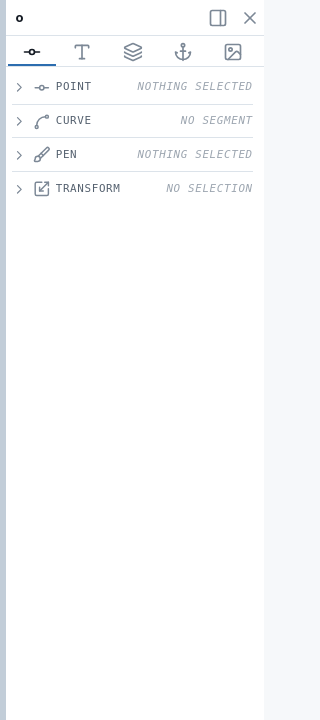
it: what the inspector says when there is nothing to say › points at the canvas rather than showing an empty list
What coordinates should you click on to do the following:
click the tab named "Anchors and guides"
I would click on:
 (183, 53)
Its box is [159,40,207,66].
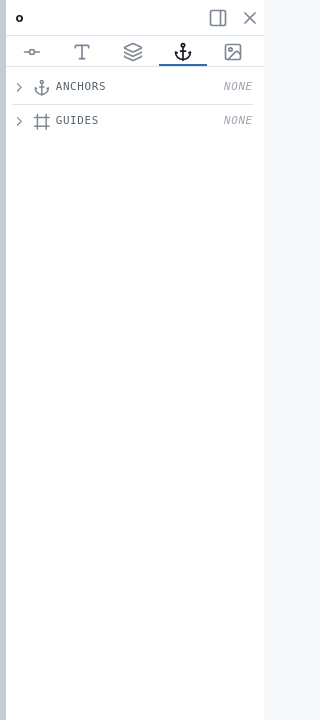
expect the button "Anchors none" is shown: met
What coordinates should you click on to do the following:
click the button "Anchors none"
I would click on:
 (132, 88)
Its box is [12,77,253,98].
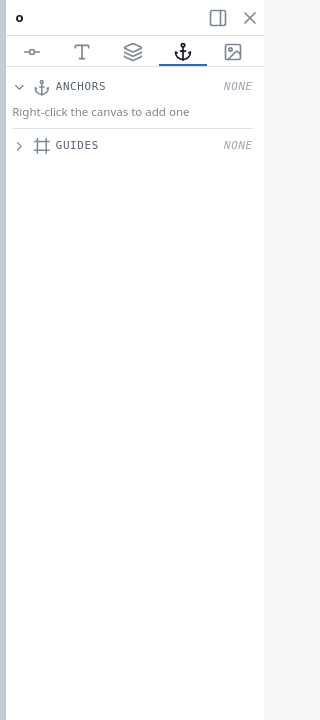
expect the text "Right-click the canvas to add one" is shown: met, box [12,104,190,118]
